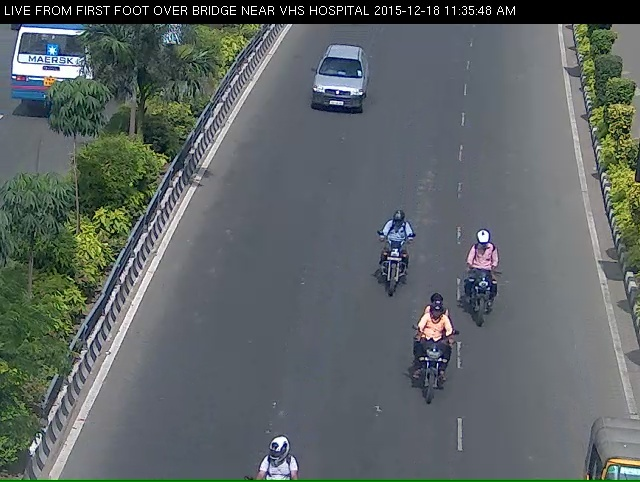Car: (296, 46, 369, 138)
Person: (461, 230, 509, 353), (410, 325, 455, 438), (366, 231, 416, 321)
